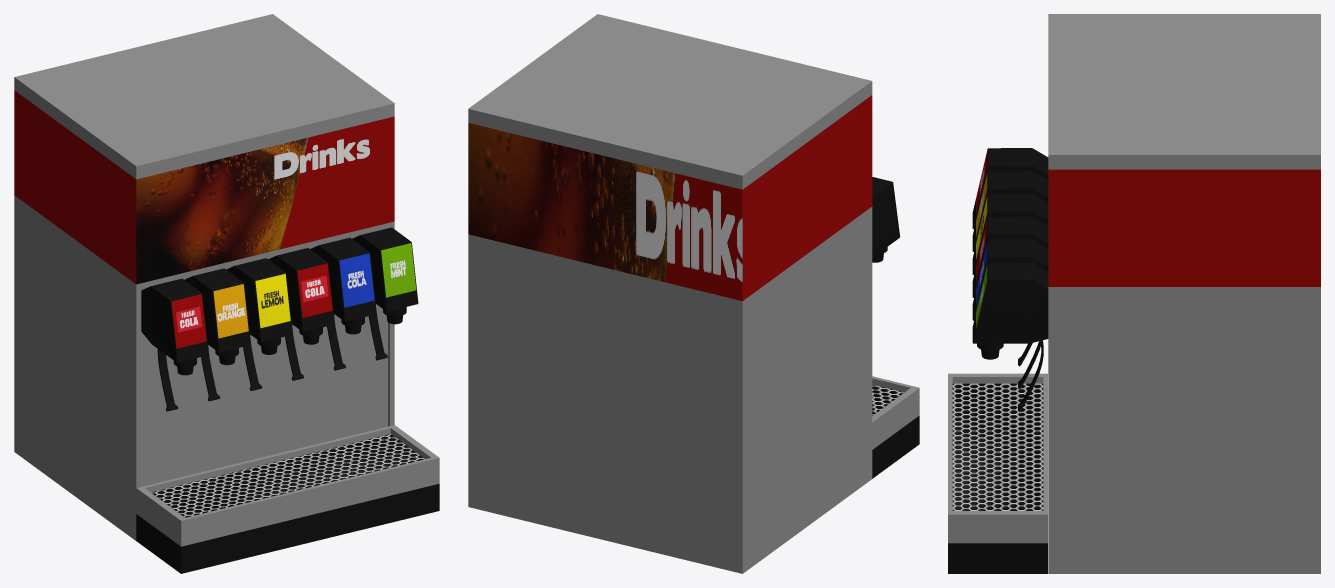
The model's file is Drinks dispenser.FBX.
The picture shows the model from 3 angles, left to right: view 1: azimuth 30°, elevation 25°; view 2: azimuth 150°, elevation 25°; view 3: azimuth 270°, elevation 25°; orthographic projection. The views are drawn at different scales.
Parts seen in each view (by area): view 1: drinks dispenser; view 2: drinks dispenser; view 3: drinks dispenser.
Boxes of the visible parts, x1,y1,x2,y2 form: drinks dispenser: [14, 14, 439, 573]; drinks dispenser: [468, 14, 919, 573]; drinks dispenser: [948, 14, 1320, 573].
Bounding box in the file's own units: 49.86 × 69.12 × 55.74.
2 materials, 1 textured.
